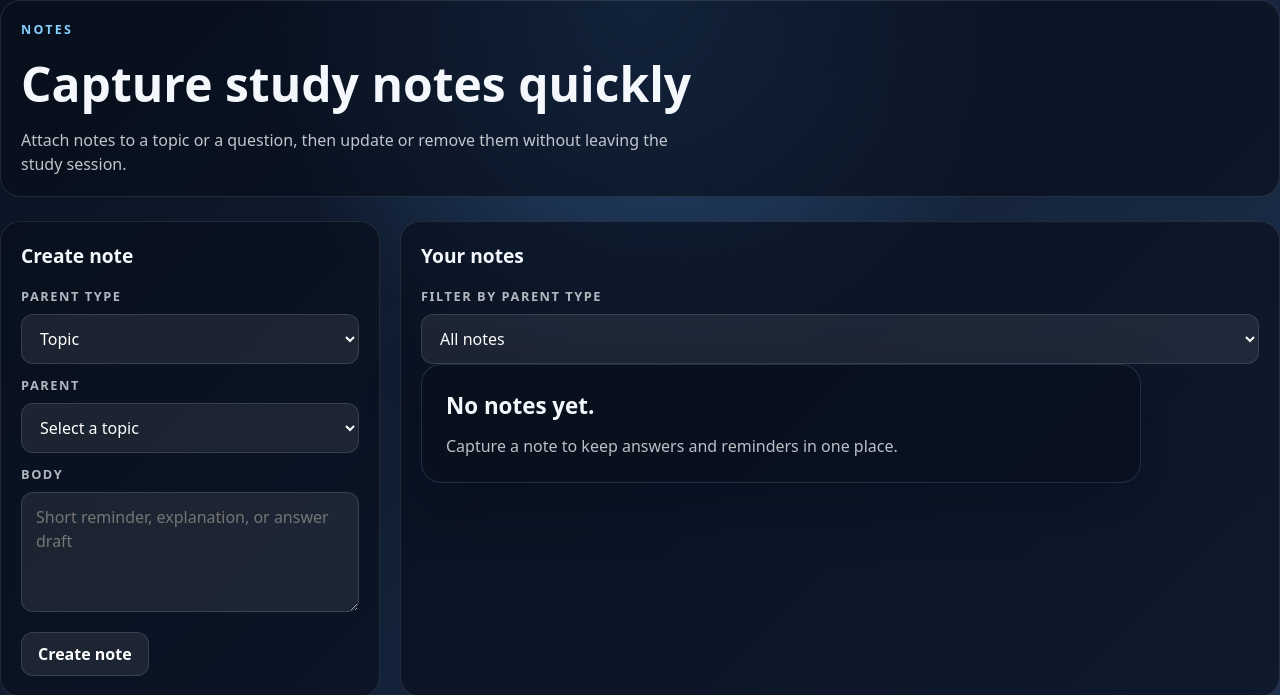
Scenario: NotesPage › shows a validation error when body is missing
The width and height of the screenshot is (1280, 695).
Step 1. Select "JavaScript" in the dropdown labelled "Parent" → (190, 428), box [21,403,359,453]
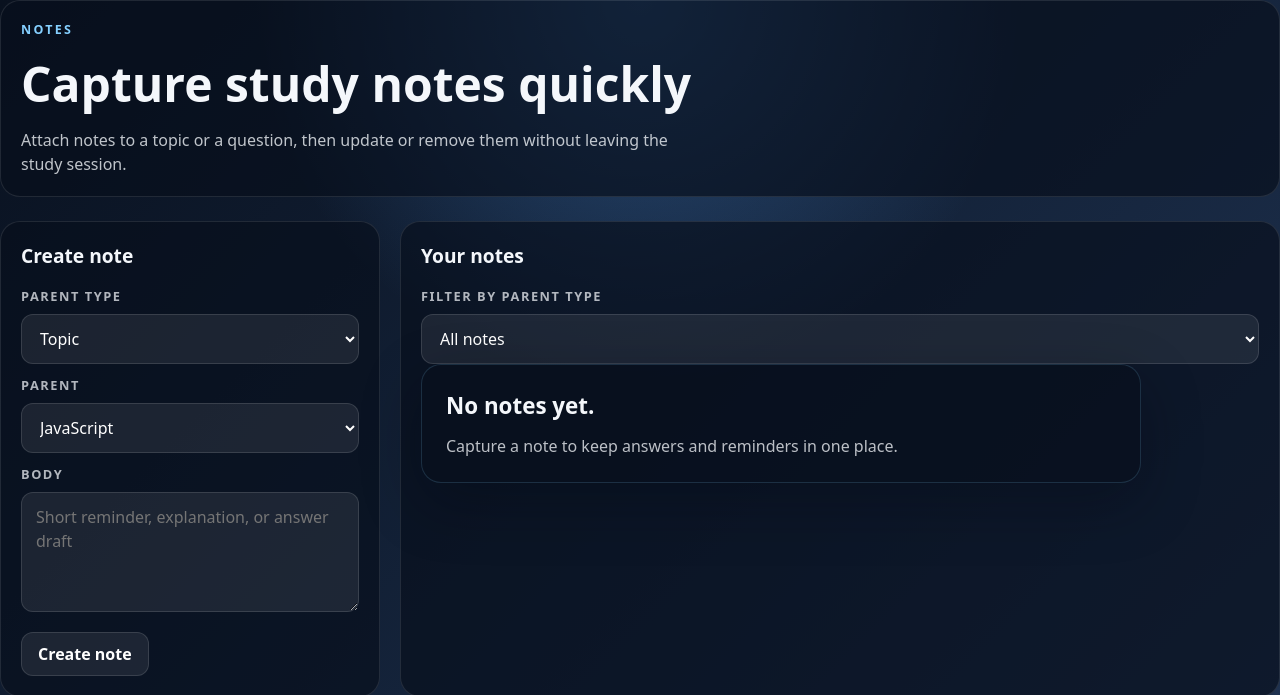
Step 2. Click the button "Create note" → (85, 654), box [21,632,149,676]
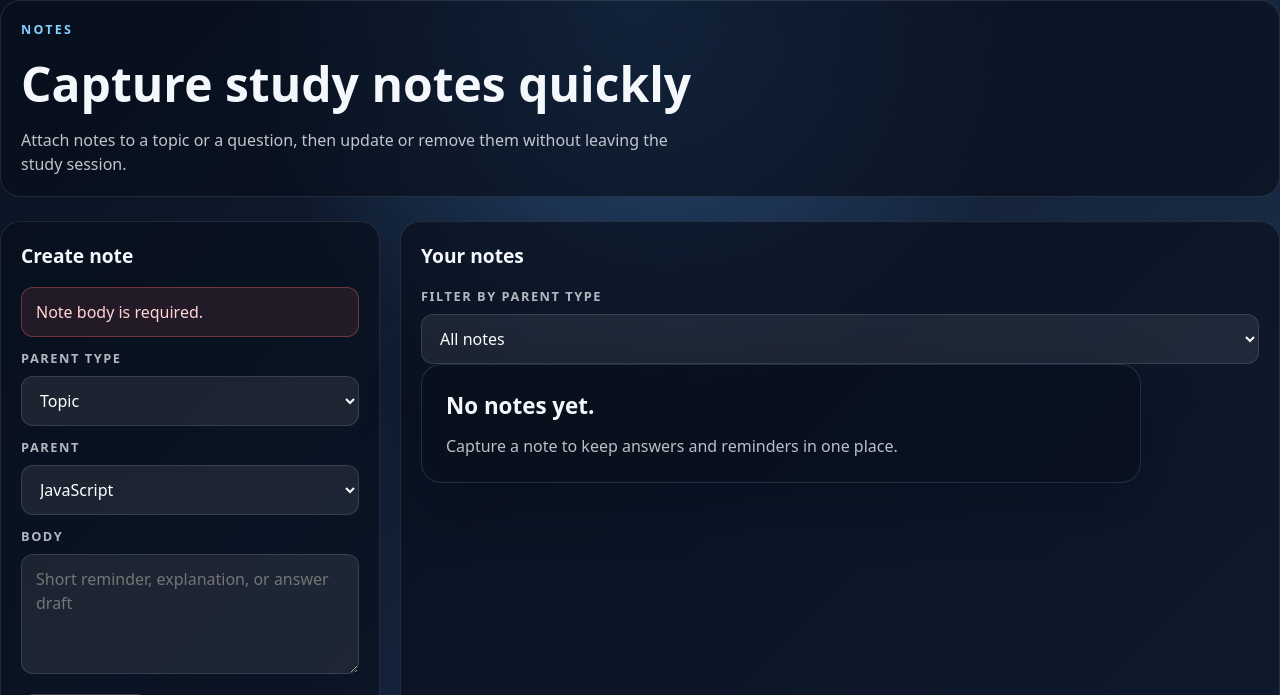
Result: the message reads "Note body is required." at [36,300,203,322]
